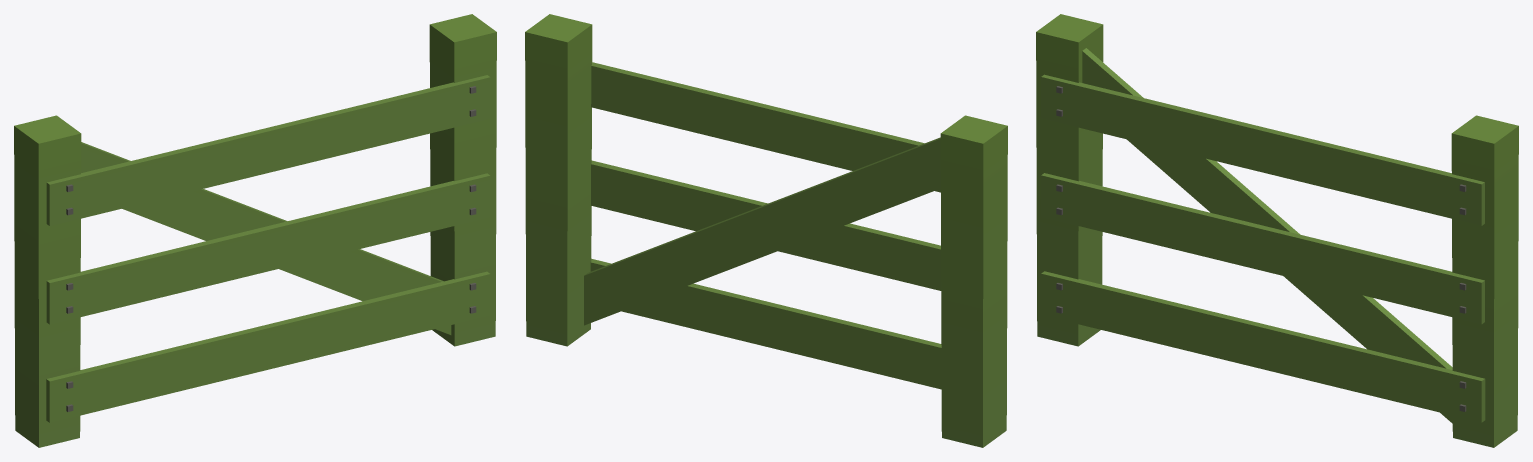
The model's file is Arch_04.fbx.
The picture shows the model from 3 angles, left to right: view 1: azimuth 30°, elevation 25°; view 2: azimuth 150°, elevation 25°; view 3: azimuth 330°, elevation 25°; orthographic projection.
Visible parts, largest first — view 1: Arch_04; view 2: Arch_04; view 3: Arch_04.
Part boxes in pixels (left/top/right/bottom): Arch_04: left=14, top=14, right=496, bottom=447; Arch_04: left=525, top=14, right=1007, bottom=447; Arch_04: left=1036, top=14, right=1518, bottom=447.
Size of the model in its own units: 1.73 by 1.1 by 0.1903.
